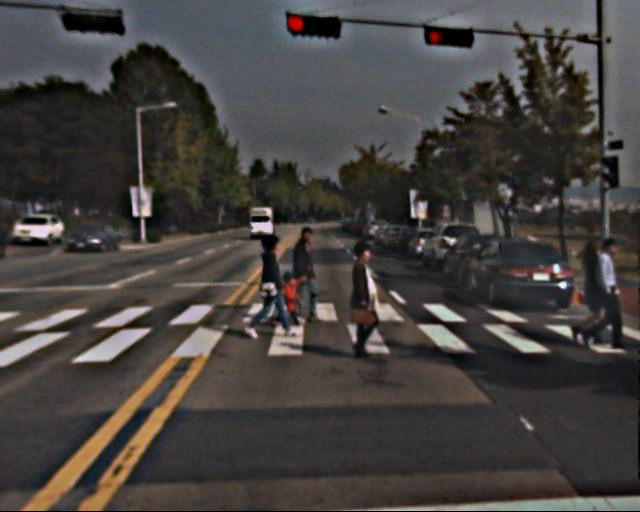person: (339, 240, 388, 359), (587, 238, 633, 349), (571, 239, 613, 342), (282, 224, 323, 325), (249, 235, 290, 336)
